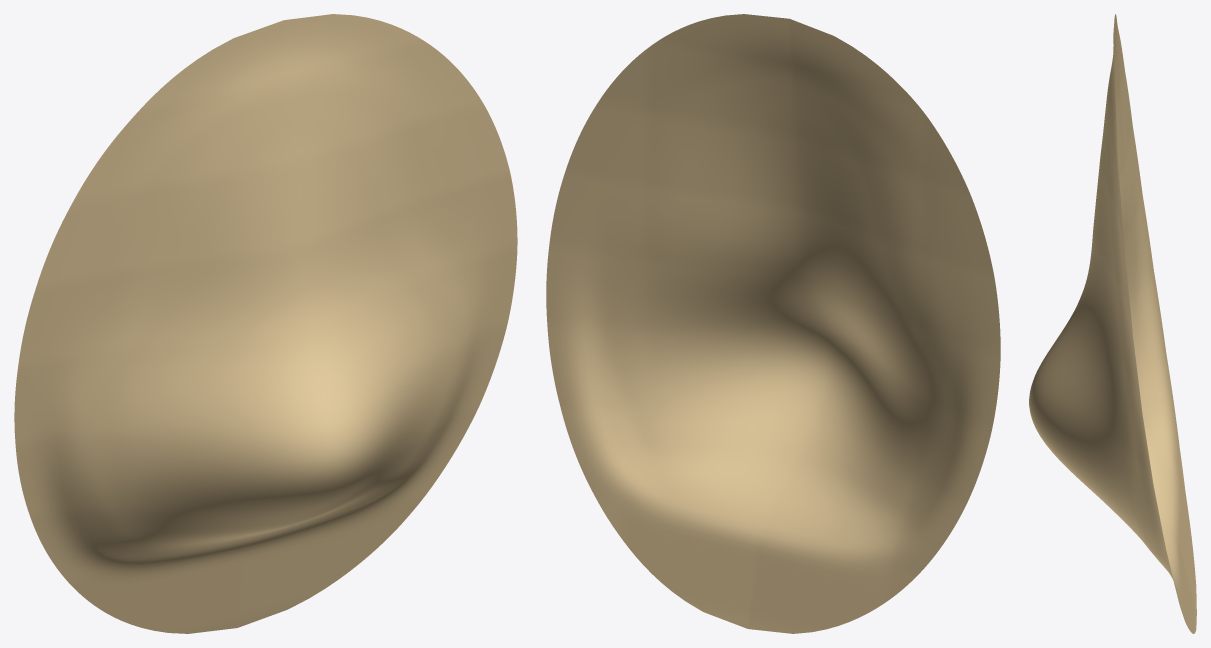
Rendered from Feminine-nose-rounded.glb.
3 renders of one model, left to right at view 1: azimuth 30°, elevation 25°; view 2: azimuth 150°, elevation 25°; view 3: azimuth 270°, elevation 25°, orthographic. The views are drawn at different scales.
Visible parts, largest first — view 1: Face / clean rounded nose190; view 2: Face / clean rounded nose190; view 3: Face / clean rounded nose190.
Part boxes in pixels (left/top/right/bottom): Face / clean rounded nose190: left=14, top=14, right=517, bottom=633; Face / clean rounded nose190: left=546, top=14, right=1000, bottom=633; Face / clean rounded nose190: left=1029, top=14, right=1196, bottom=633.
Bounding box in the file's own units: 0.098 × 0.12 × 0.0315.
